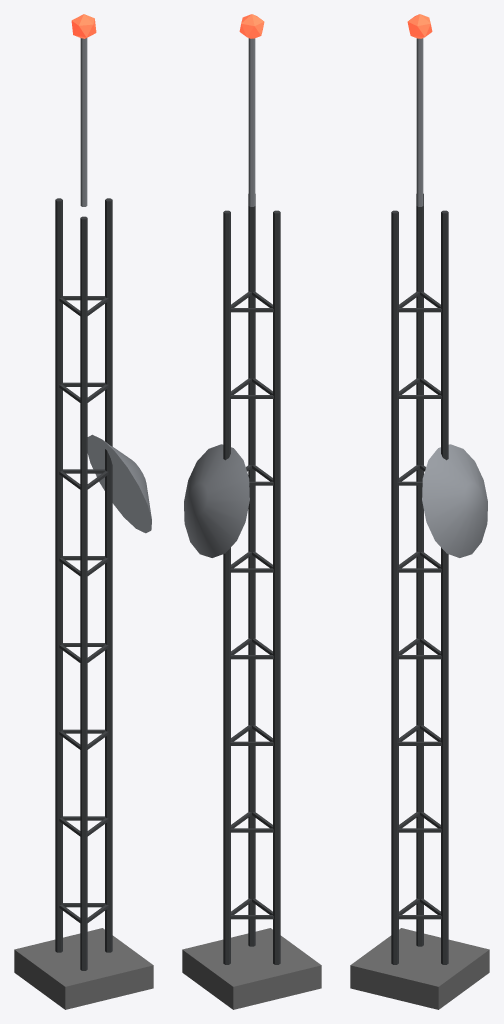
The model's file is antenna.glb.
3 views of the same model, side by side, from view 1: azimuth 30°, elevation 25°; view 2: azimuth 210°, elevation 25°; view 3: azimuth 330°, elevation 25° (orthographic).
Visible parts, largest first — view 1: Antenna_Mesh; view 2: Antenna_Mesh; view 3: Antenna_Mesh.
Part boxes in pixels (left/top/right/bottom): Antenna_Mesh: left=14, top=14, right=153, bottom=1009; Antenna_Mesh: left=182, top=14, right=321, bottom=1009; Antenna_Mesh: left=350, top=14, right=489, bottom=1009.
Bounding box in the file's own units: 1.85 × 16.72 × 1.8.
